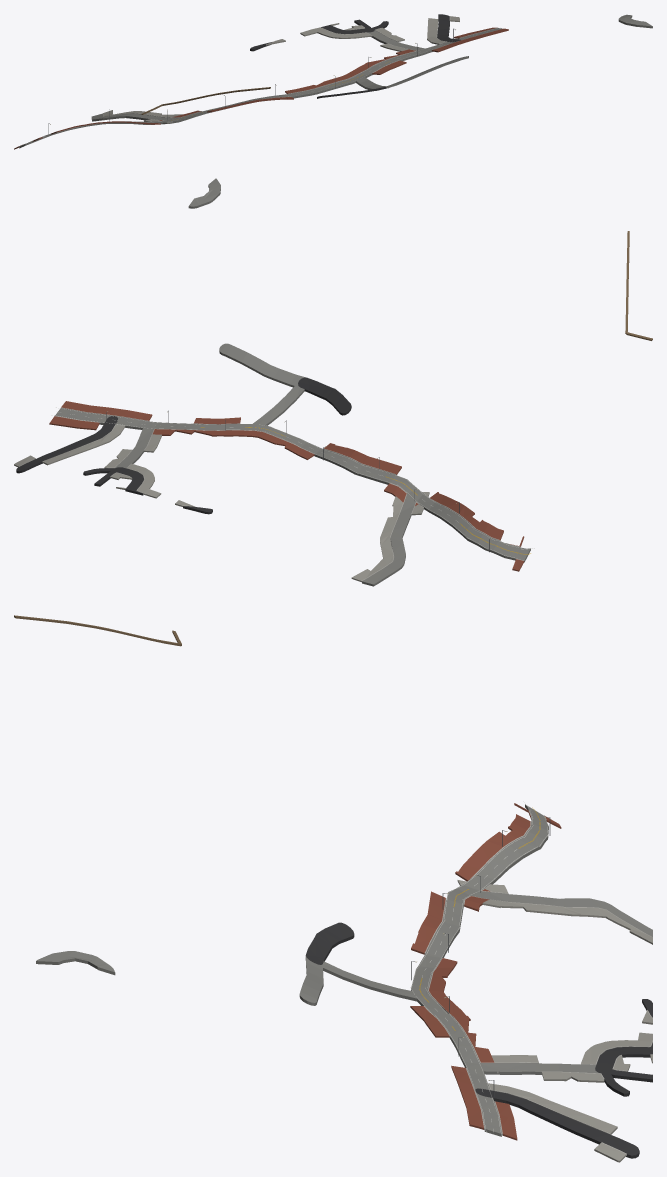
3 renders of one model, top to bottom at view 1: azimuth 30°, elevation 25°; view 2: azimuth 150°, elevation 25°; view 3: azimuth 270°, elevation 25°, orthographic. The views are drawn at different scales.
Size of the model in its own units: 298 by 117 by 232.
